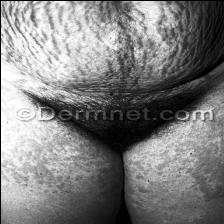Toxin: (0, 0, 219, 92), (0, 123, 103, 193), (144, 130, 224, 193)
